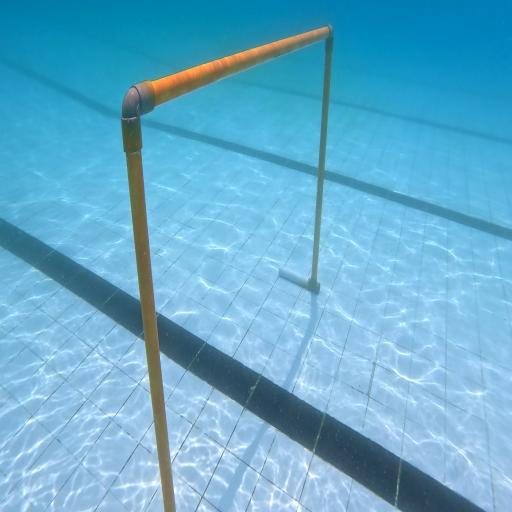gate: (122, 24, 333, 512)
